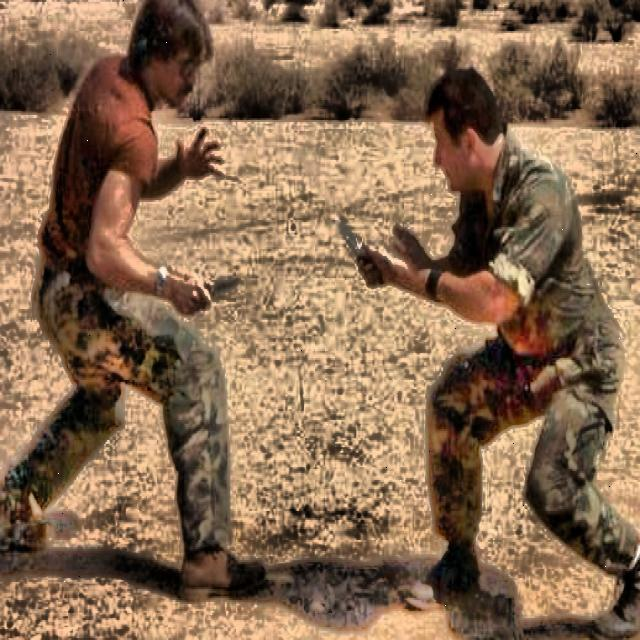knife: (334, 216, 380, 286), (204, 280, 238, 296)
